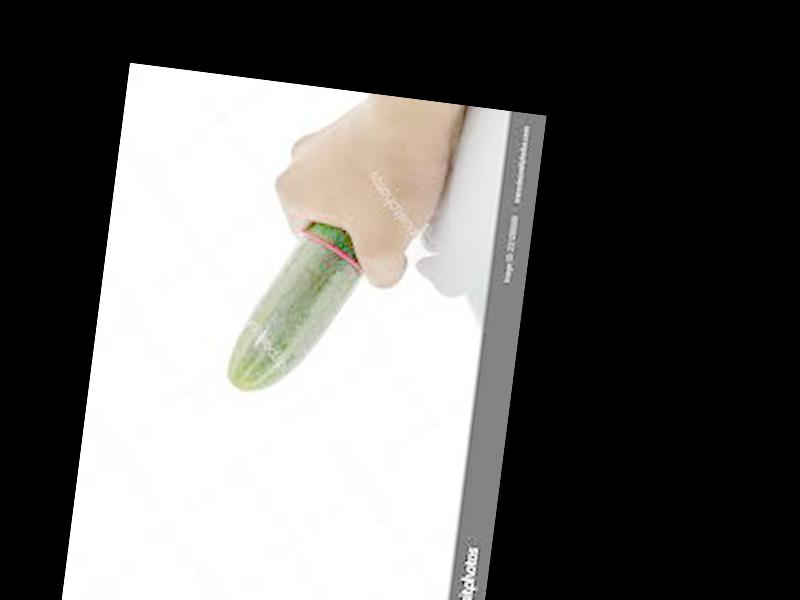Cucumber: (225, 213, 366, 403)
